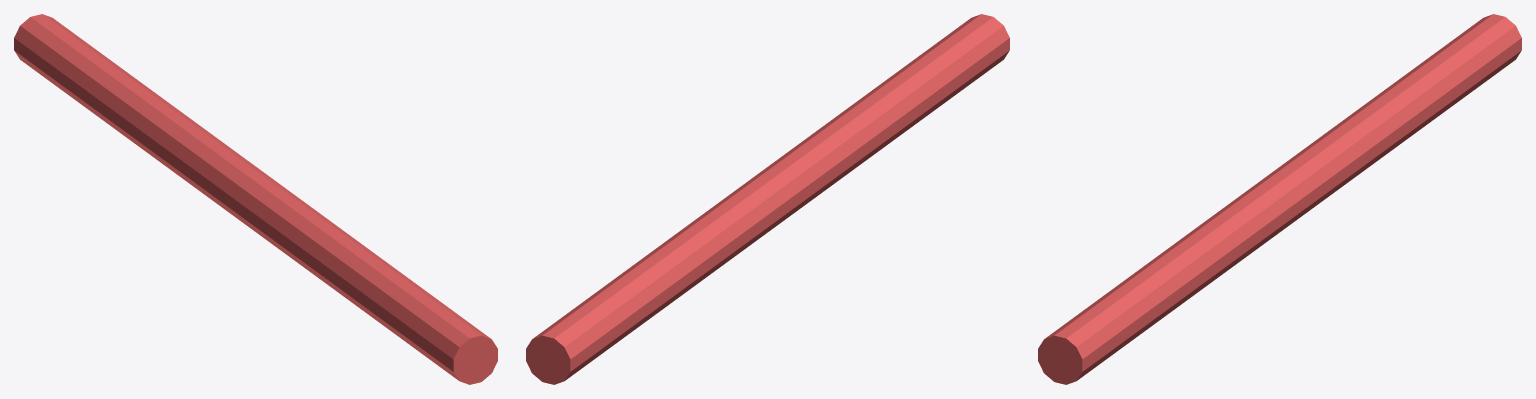
File: beam_large.gltf
3 views of the same model, side by side, from view 1: azimuth 30°, elevation 25°; view 2: azimuth 150°, elevation 25°; view 3: azimuth 330°, elevation 25° (orthographic).
Parts seen in each view (by area): view 1: cylinder; view 2: cylinder; view 3: cylinder.
Boxes of the visible parts, x1,y1,x2,y2 form: cylinder: (14, 14, 497, 384); cylinder: (526, 14, 1009, 384); cylinder: (1038, 14, 1521, 384).
Bounding box in the file's own units: 0.4375 × 0.4375 × 7.5.
Materials: 1 (1 with a texture image).
